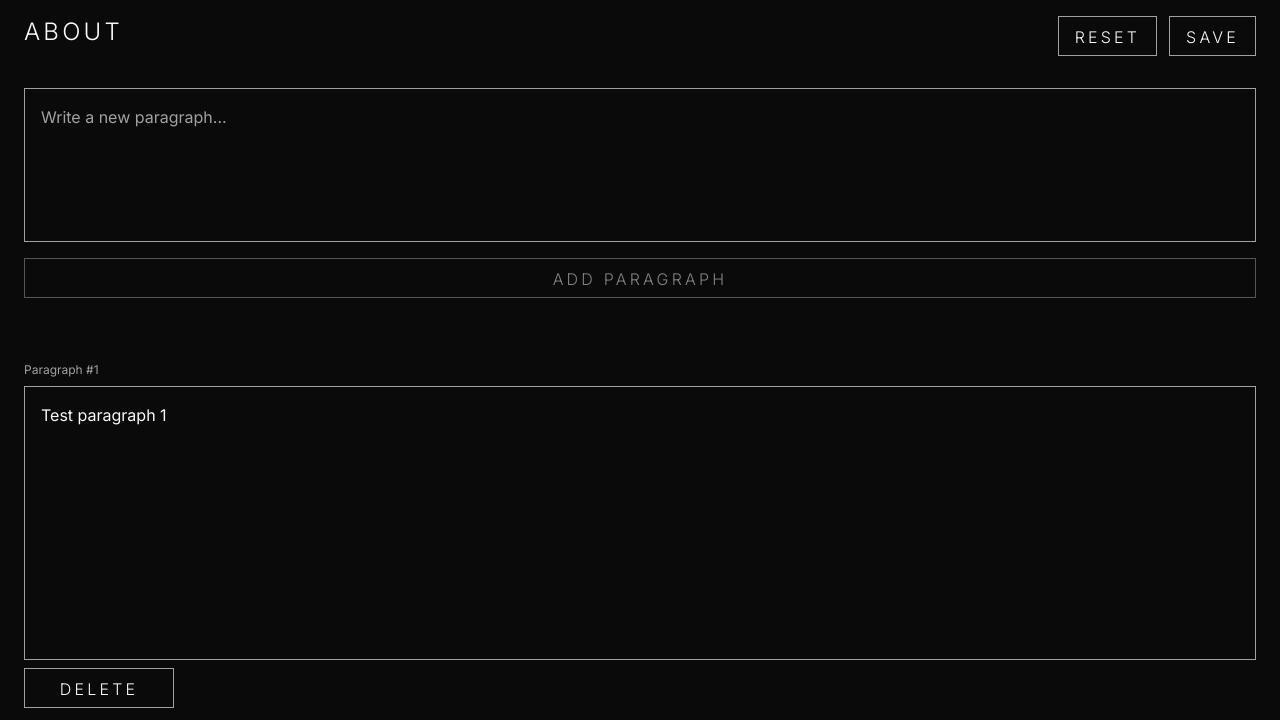
AboutAdmin Integration › should reset changes to original content
Expected: the text "Paragraph #1" is shown, [24, 362, 99, 377]
Edit a paragraph
Replace the text in the text box with placeholder "Write a paragraph..." with "Modified content". click: (640, 523)
box: [24, 386, 1256, 660]
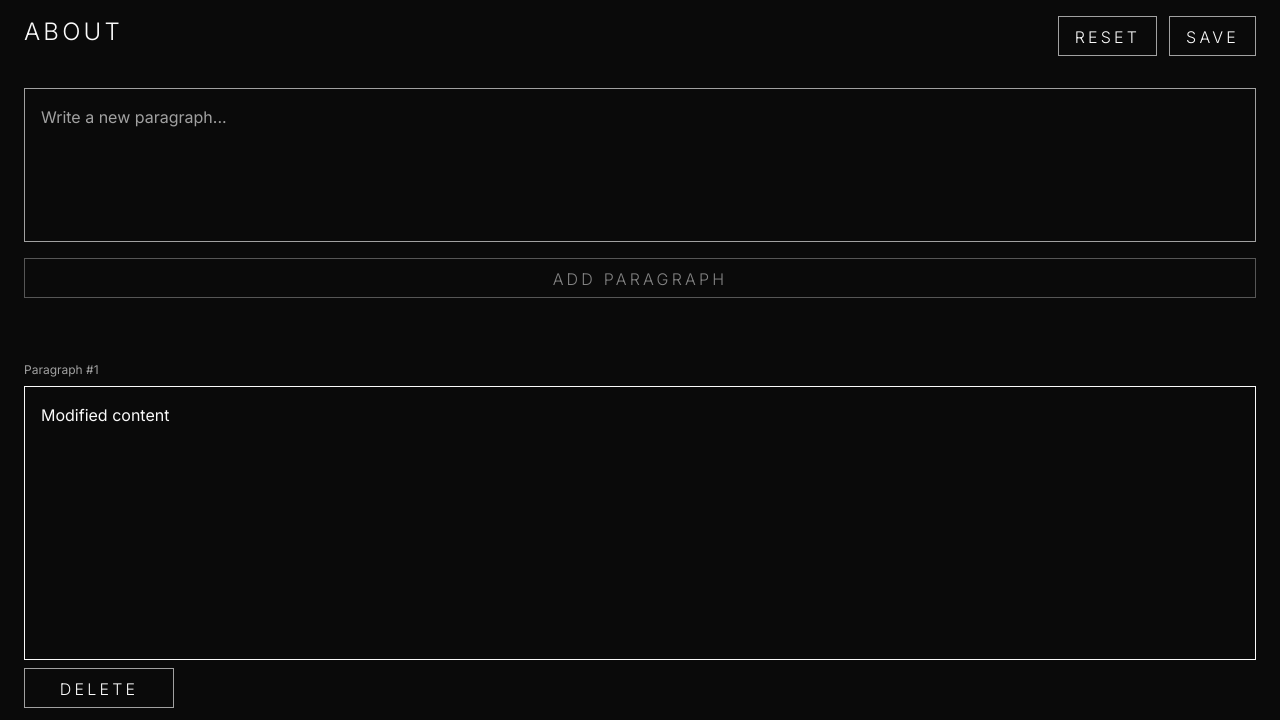
Click the button "Reset". click: (1107, 36)
box: [1058, 16, 1157, 56]
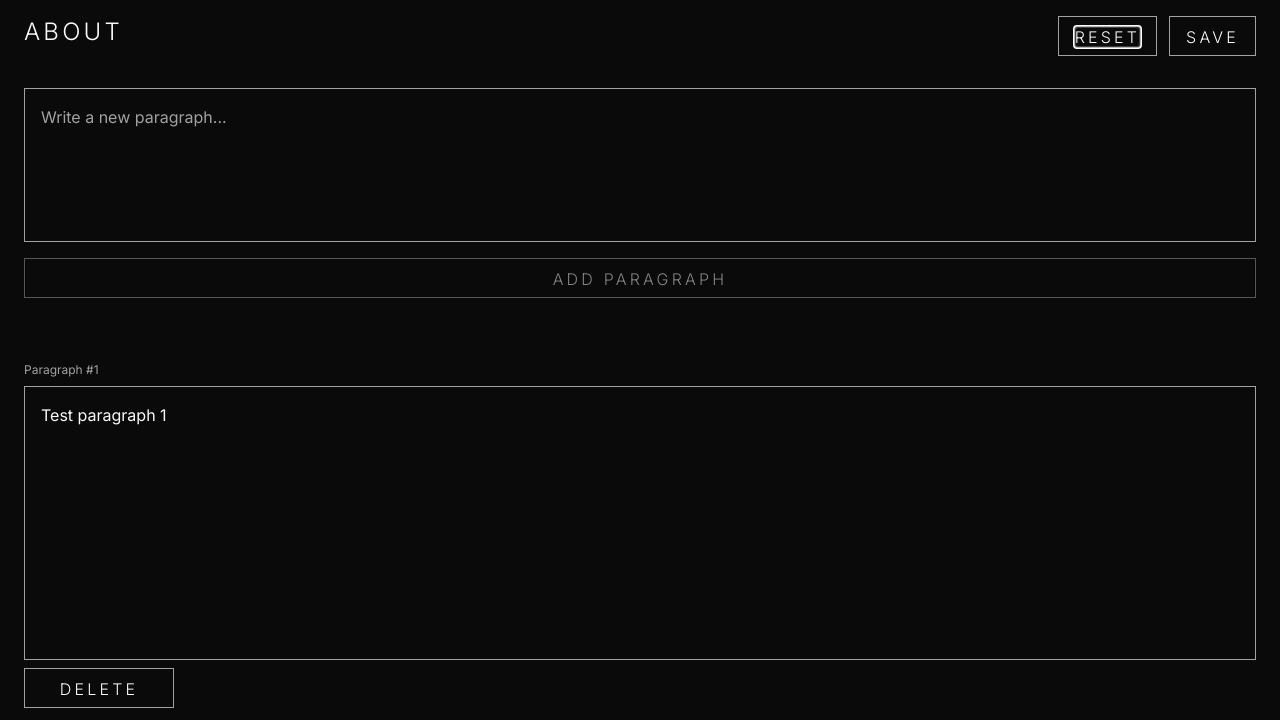
Expected: the text box with placeholder "Write a paragraph..." holds "Test paragraph 1", [24, 386, 1256, 660]
